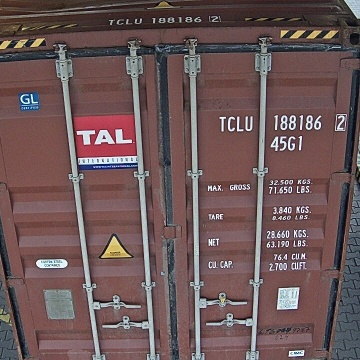serial_id: (219, 114, 347, 131)
